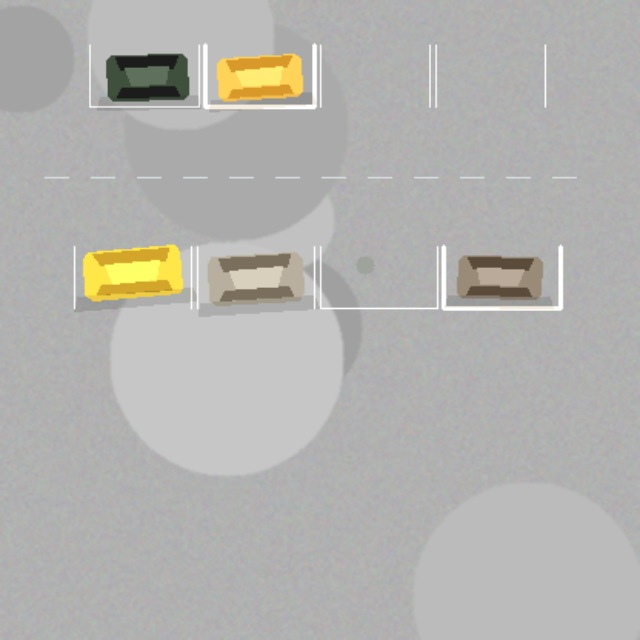space-empty: (320, 246, 437, 308), (435, 45, 545, 106), (320, 45, 429, 106)
space-occupied: (74, 246, 191, 308), (197, 246, 314, 308), (443, 246, 560, 308), (89, 45, 198, 106), (205, 45, 314, 106)
